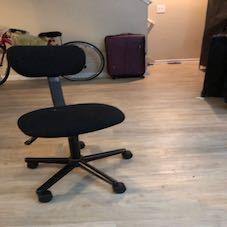chair: (2, 31, 155, 212)
